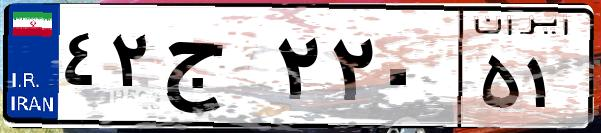0: (385, 28, 445, 110)
1: (525, 38, 570, 115)
2: (270, 28, 330, 110), (330, 28, 385, 110), (110, 28, 158, 98)
4: (57, 26, 110, 100)
5: (475, 38, 525, 113)
ج: (158, 20, 270, 120)
